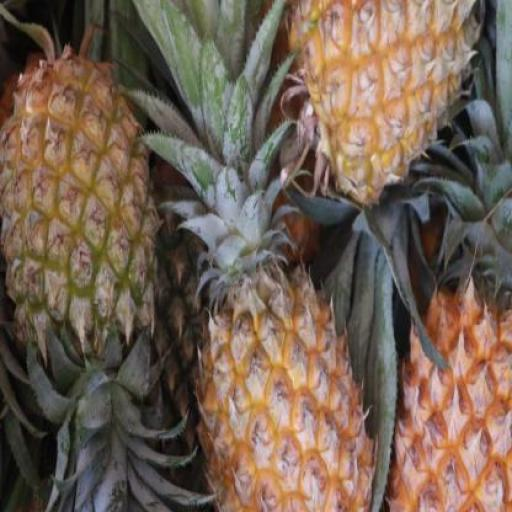------------------------------: (0, 56, 156, 350)
Pineapple - v8 v1: (188, 252, 368, 512), (290, 1, 482, 206), (384, 274, 512, 511)
